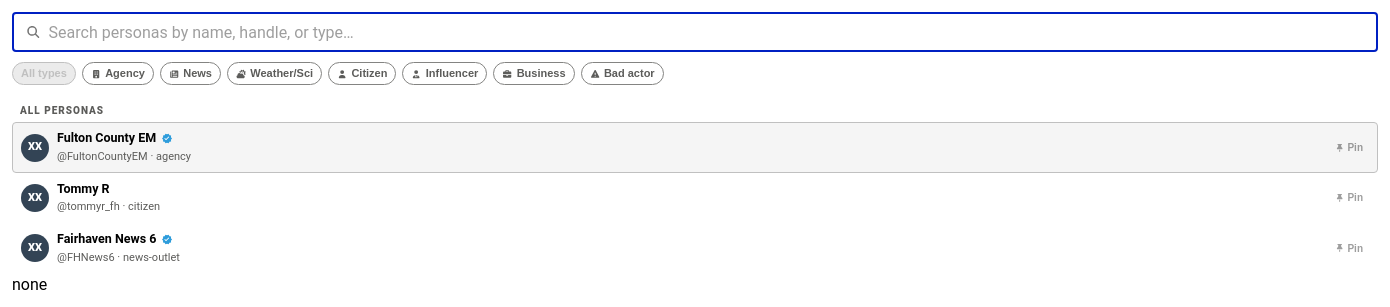
Test: PersonaPicker — keyboard-only selection (NFR-001) › type a name, arrow down is a no-op with one match, Enter selects — no pointer used
The image size is (1390, 307).
Type "tommy" into the field with test id "persona-picker-search" at (713, 32), box [49, 12, 1378, 52]
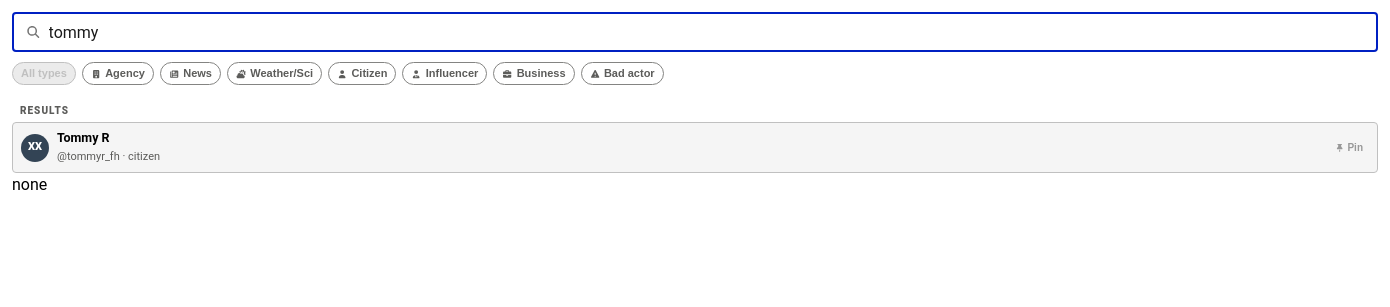
Press Enter
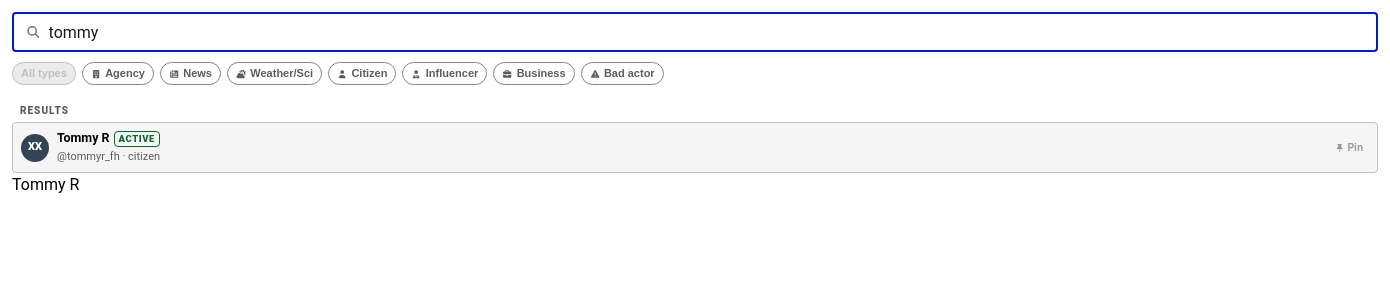
Result: the text with test id "active-persona-probe" reads "Tommy R" at [12, 175, 79, 194]
